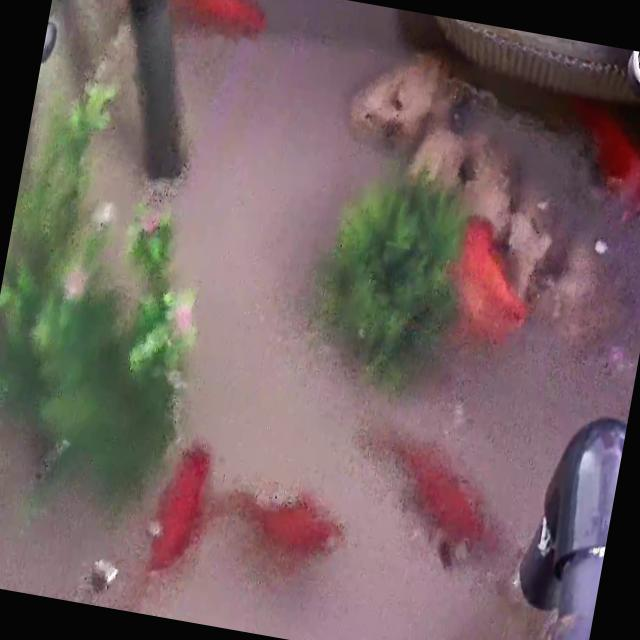fish: (371, 436, 515, 564), (442, 214, 546, 353), (226, 481, 348, 578), (553, 98, 640, 227), (139, 436, 215, 582), (161, 0, 272, 44)
